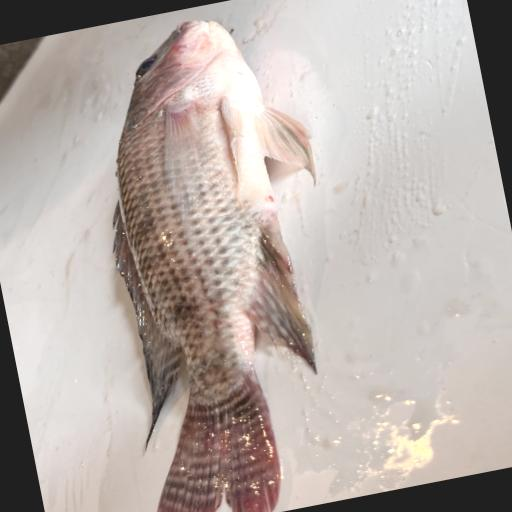Tilapia: (59, 0, 382, 512)
